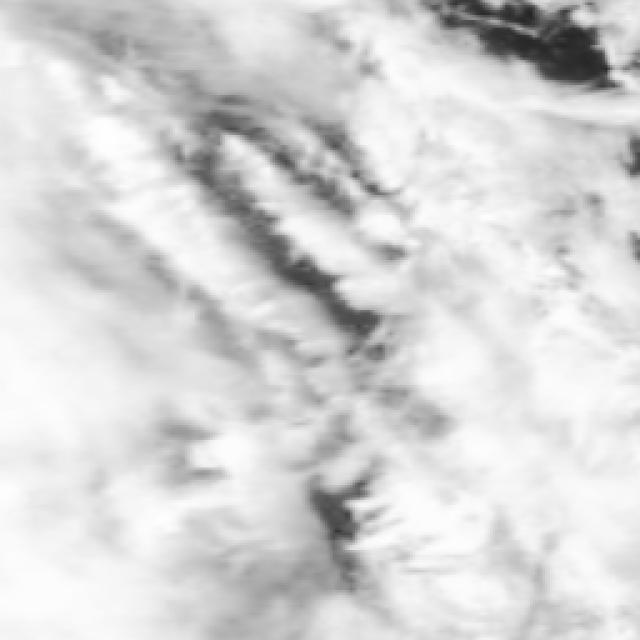CB: (2, 402, 222, 640), (0, 205, 210, 393), (437, 333, 639, 528), (442, 134, 630, 331), (0, 0, 174, 210), (403, 508, 640, 640)
